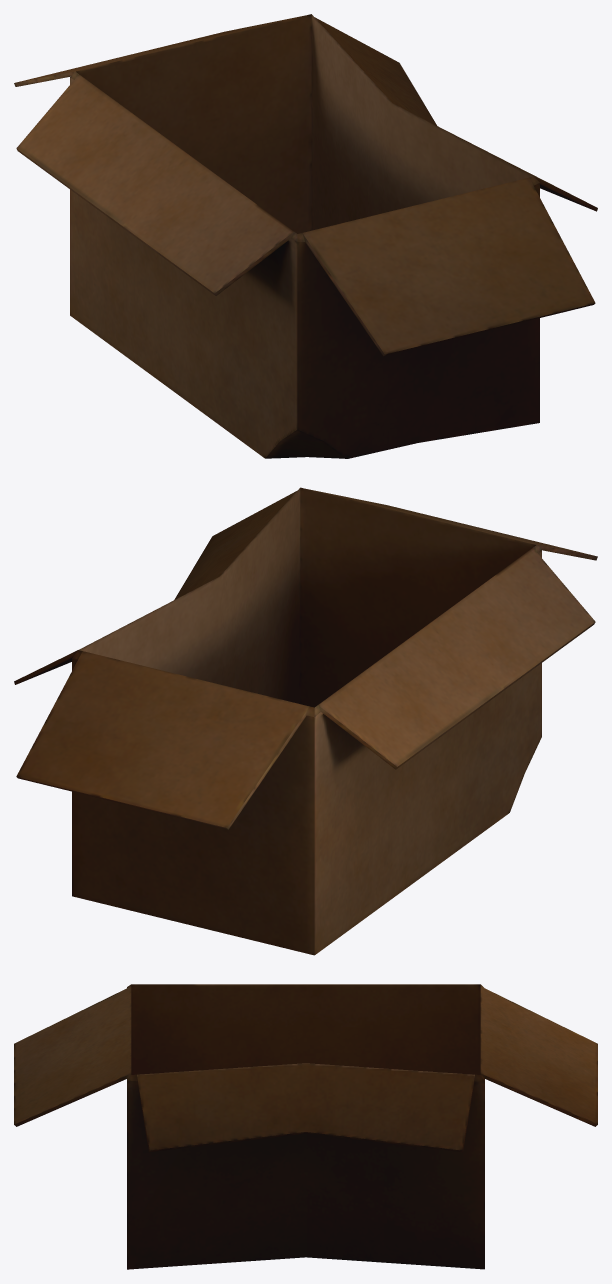
File: G2_DM_cartons_5.gltf
3 views of the same model, one above another, from view 1: azimuth 30°, elevation 25°; view 2: azimuth 150°, elevation 25°; view 3: azimuth 270°, elevation 25° (orthographic). The views are drawn at different scales.
Parts seen in each view (by area): view 1: carton; view 2: carton; view 3: carton.
Boxes of the visible parts, left/top/right/bottom form: carton: left=14, top=14, right=597, bottom=458; carton: left=14, top=487, right=597, bottom=955; carton: left=14, top=984, right=597, bottom=1269.
Size of the model in its own units: 0.4799 by 0.2937 by 0.8044.
